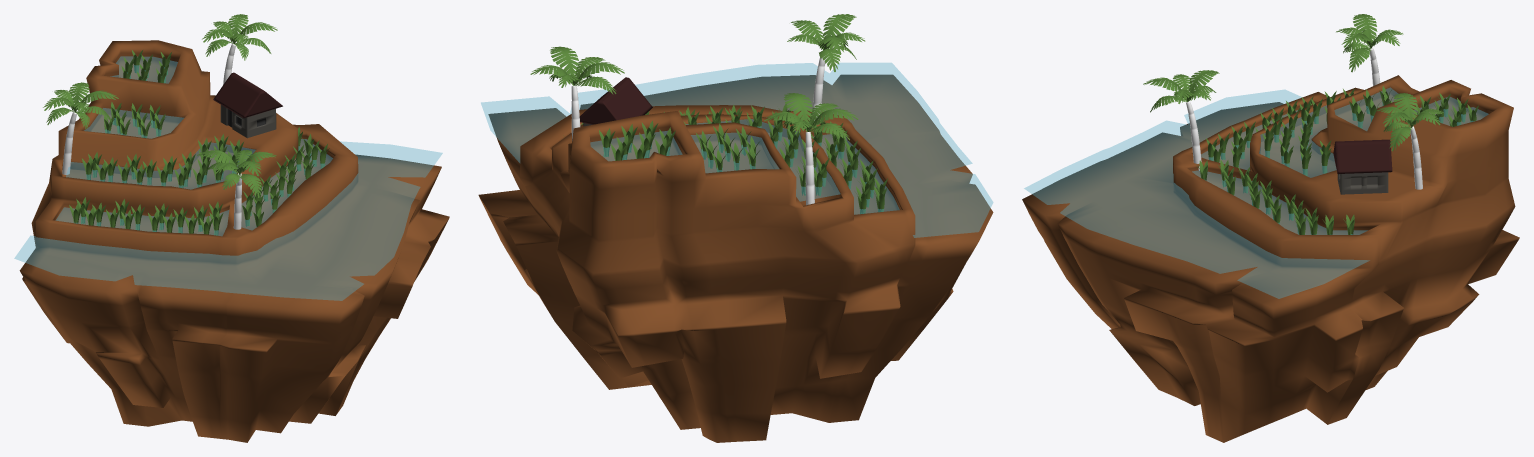
The model's file is Tarace Farming.glb.
3 views of the same model, side by side, from view 1: azimuth 30°, elevation 25°; view 2: azimuth 150°, elevation 25°; view 3: azimuth 270°, elevation 25° (orthographic). The views are drawn at different scales.
Parts seen in each view (by area): view 1: Cube.057, Cube.039, Plane.263, Plane.216, Cube.059, Plane.189, Plane.191, Plane.205, Cube.058, Plane.268, Plane.277, Cylinder.085; view 2: Cube.057, Cube.039, Plane.263, Plane.216, Plane.205, Plane.191, Plane.189, Cube.059, Plane.277, Plane.268, Cylinder.085; view 3: Cube.057, Cube.039, Plane.263, Plane.216, Cube.059, Plane.191, Plane.205, Plane.189, Cube.058, Plane.277, Plane.268, Cylinder.083.
Boxes of the visible parts, box(x1,y1,x2,y2) form: Cube.057: box(19, 40, 449, 442); Cube.039: box(14, 56, 442, 300); Plane.263: box(69, 127, 329, 235); Plane.216: box(82, 134, 243, 188); Cube.059: box(213, 72, 282, 118); Plane.189: box(197, 149, 276, 197); Plane.191: box(202, 14, 277, 60); Plane.205: box(43, 82, 118, 128); Cube.058: box(220, 105, 276, 138); Plane.268: box(104, 102, 165, 138); Plane.277: box(121, 50, 171, 83); Cylinder.085: box(62, 111, 76, 174); Cube.057: box(478, 74, 993, 442); Cube.039: box(481, 63, 993, 237); Plane.263: box(563, 104, 887, 213); Plane.216: box(683, 105, 829, 195); Plane.205: box(764, 93, 858, 140); Plane.191: box(530, 46, 624, 94); Plane.189: box(787, 14, 865, 71); Cube.059: box(579, 77, 652, 124); Plane.277: box(599, 120, 675, 160); Plane.268: box(696, 123, 759, 172); Cylinder.085: box(805, 132, 814, 205); Cube.057: box(1022, 75, 1519, 442); Cube.039: box(1024, 87, 1488, 298); Plane.263: box(1196, 96, 1354, 234); Plane.216: box(1262, 88, 1354, 176); Cube.059: box(1333, 139, 1392, 173); Plane.191: box(1377, 93, 1443, 151); Plane.205: box(1336, 14, 1403, 72); Plane.189: box(1143, 70, 1219, 112); Cube.058: box(1337, 172, 1388, 194); Plane.277: box(1416, 92, 1478, 126); Plane.268: box(1349, 86, 1392, 128); Cylinder.083: box(1186, 101, 1201, 170).
Bounding box in the file's own units: 6.5 × 4.76 × 6.41.
